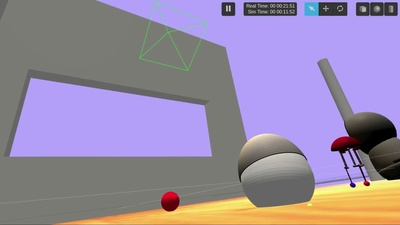mira_robot: (238, 133, 315, 208)
